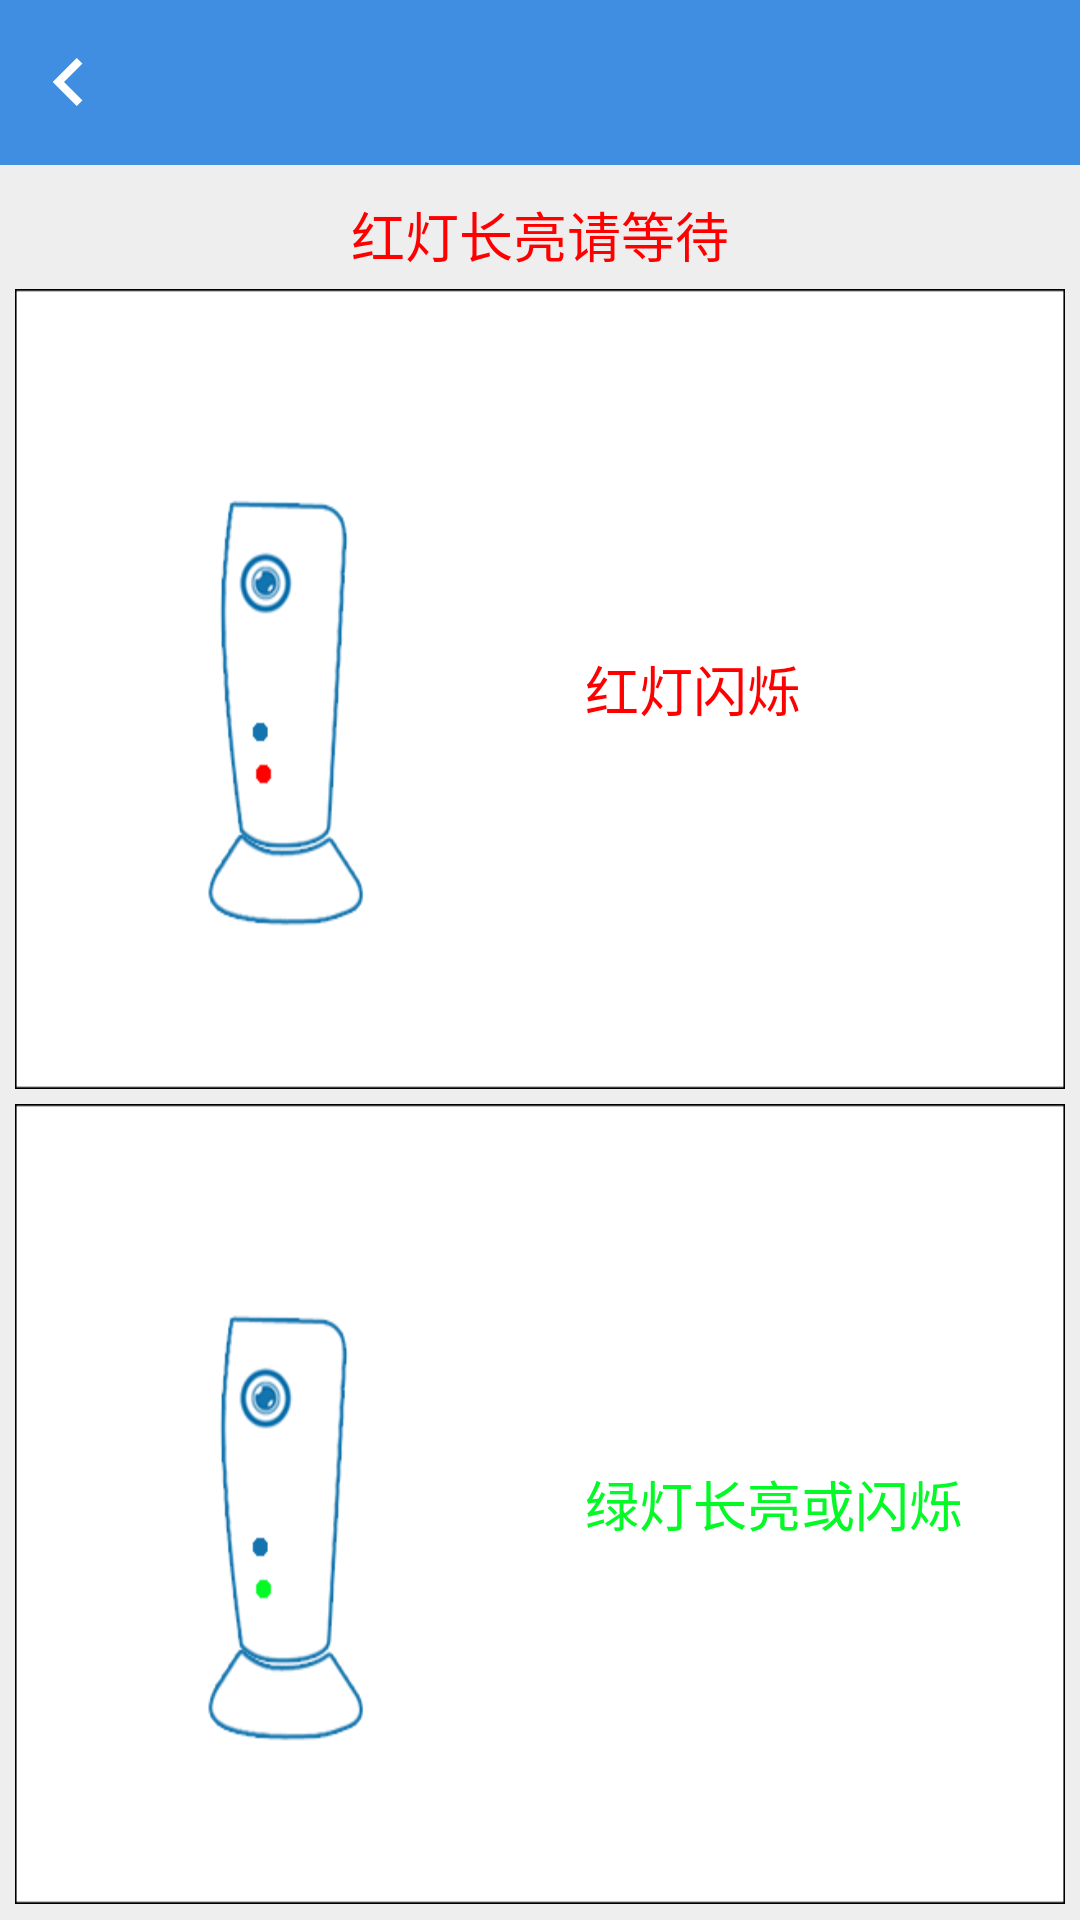

Icon bounding boxes for this 1080*1920 phone screenshot, format [x1,y1,x2,y2]:
back: [53,58,83,106]
